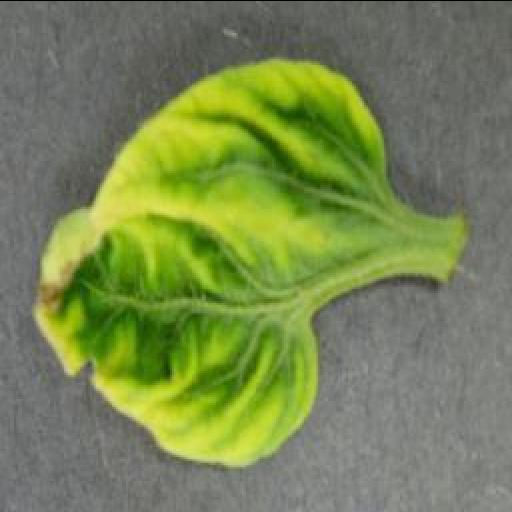disease_tomato: (34, 56, 396, 468)
